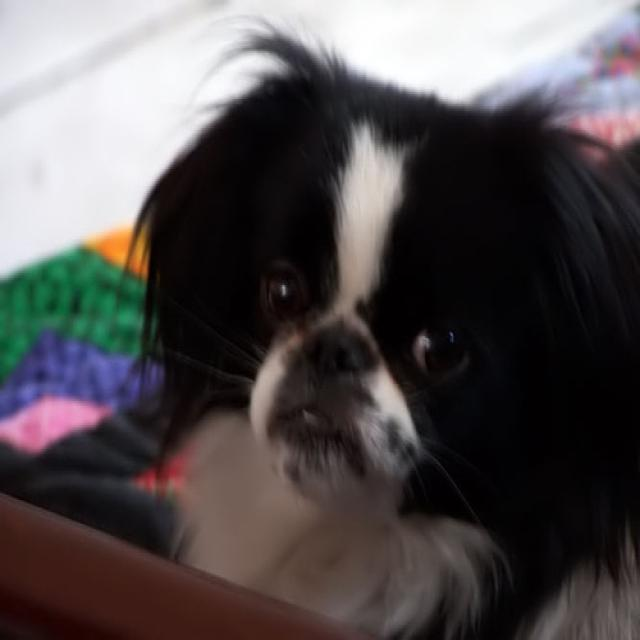dog-japanese_chin: (137, 44, 637, 637)
